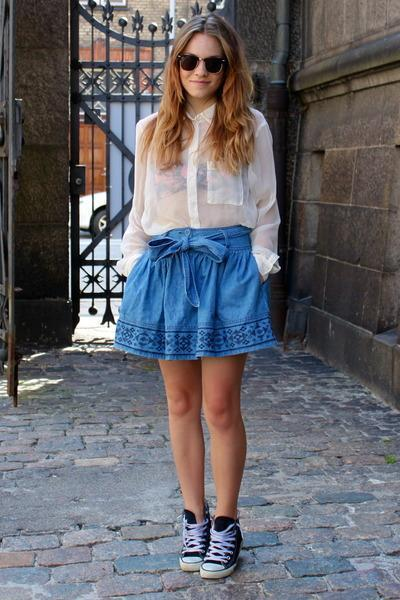shirt: (110, 132, 280, 275)
shoe: (175, 492, 251, 576)
skirt: (108, 224, 281, 359)
